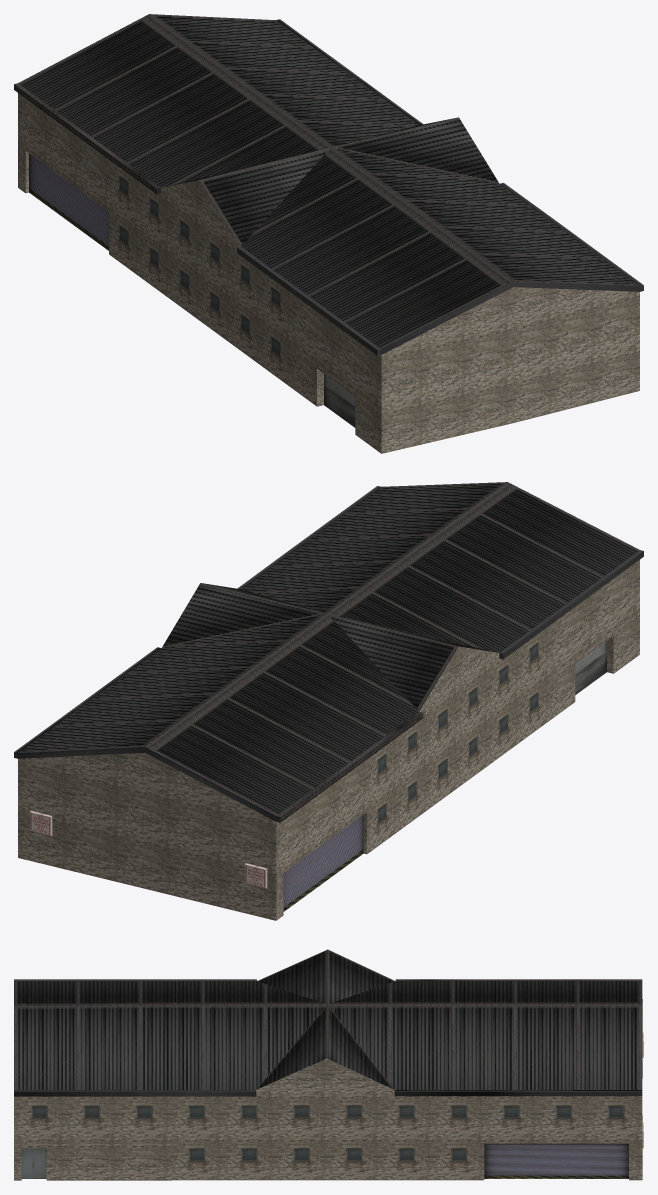
File: hrborbuild_sfn02.obj
3 renders of one model, top to bottom at view 1: azimuth 30°, elevation 25°; view 2: azimuth 150°, elevation 25°; view 3: azimuth 270°, elevation 25°, orthographic. The views are drawn at different scales.
Parts seen in each view (by area): view 1: hrborbuild_SFN02; view 2: hrborbuild_SFN02; view 3: hrborbuild_SFN02.
Boxes of the visible parts, x1,y1,x2,y2 form: hrborbuild_SFN02: (14,14,643,453); hrborbuild_SFN02: (14,482,643,920); hrborbuild_SFN02: (14,949,643,1180).
Size of the model in its own units: 19.72 by 10.12 by 46.72.
7 materials, 7 textured.
